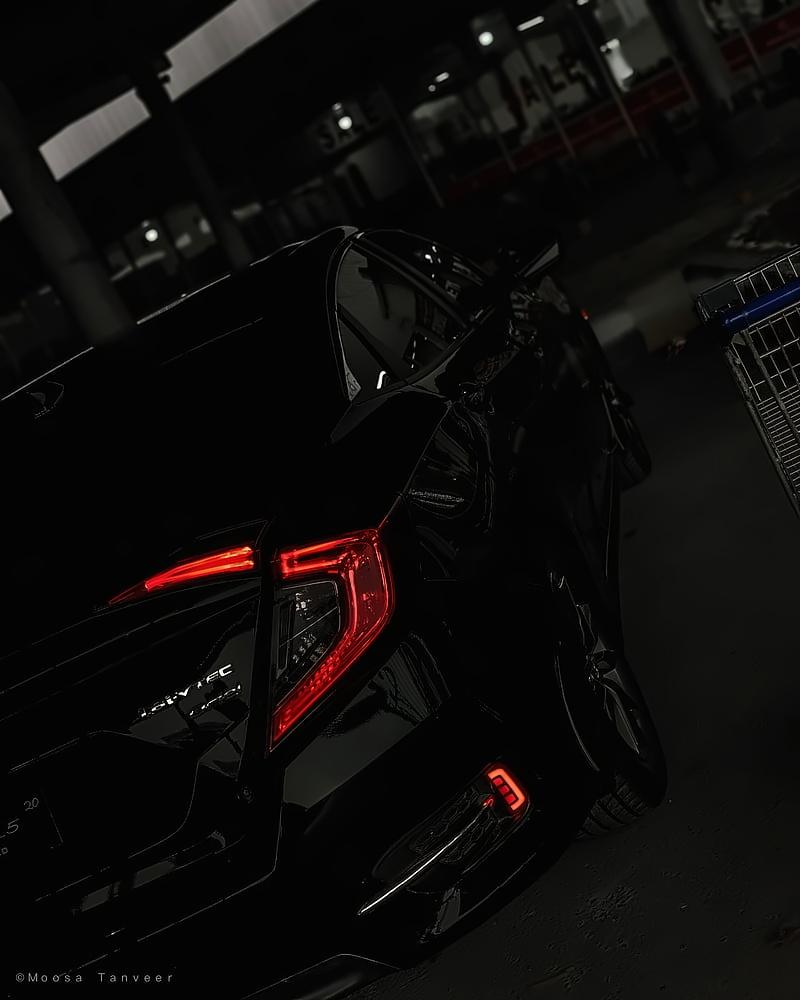Car boot: (0, 397, 337, 960)
Passenger-s door - -R-R-: (307, 215, 631, 640)
Rear bumper: (0, 612, 577, 1000)
Rear light - -R-: (82, 519, 397, 757)
Side bumper - -R-: (566, 424, 647, 662)
Side mirror - -R-: (487, 207, 592, 301)
